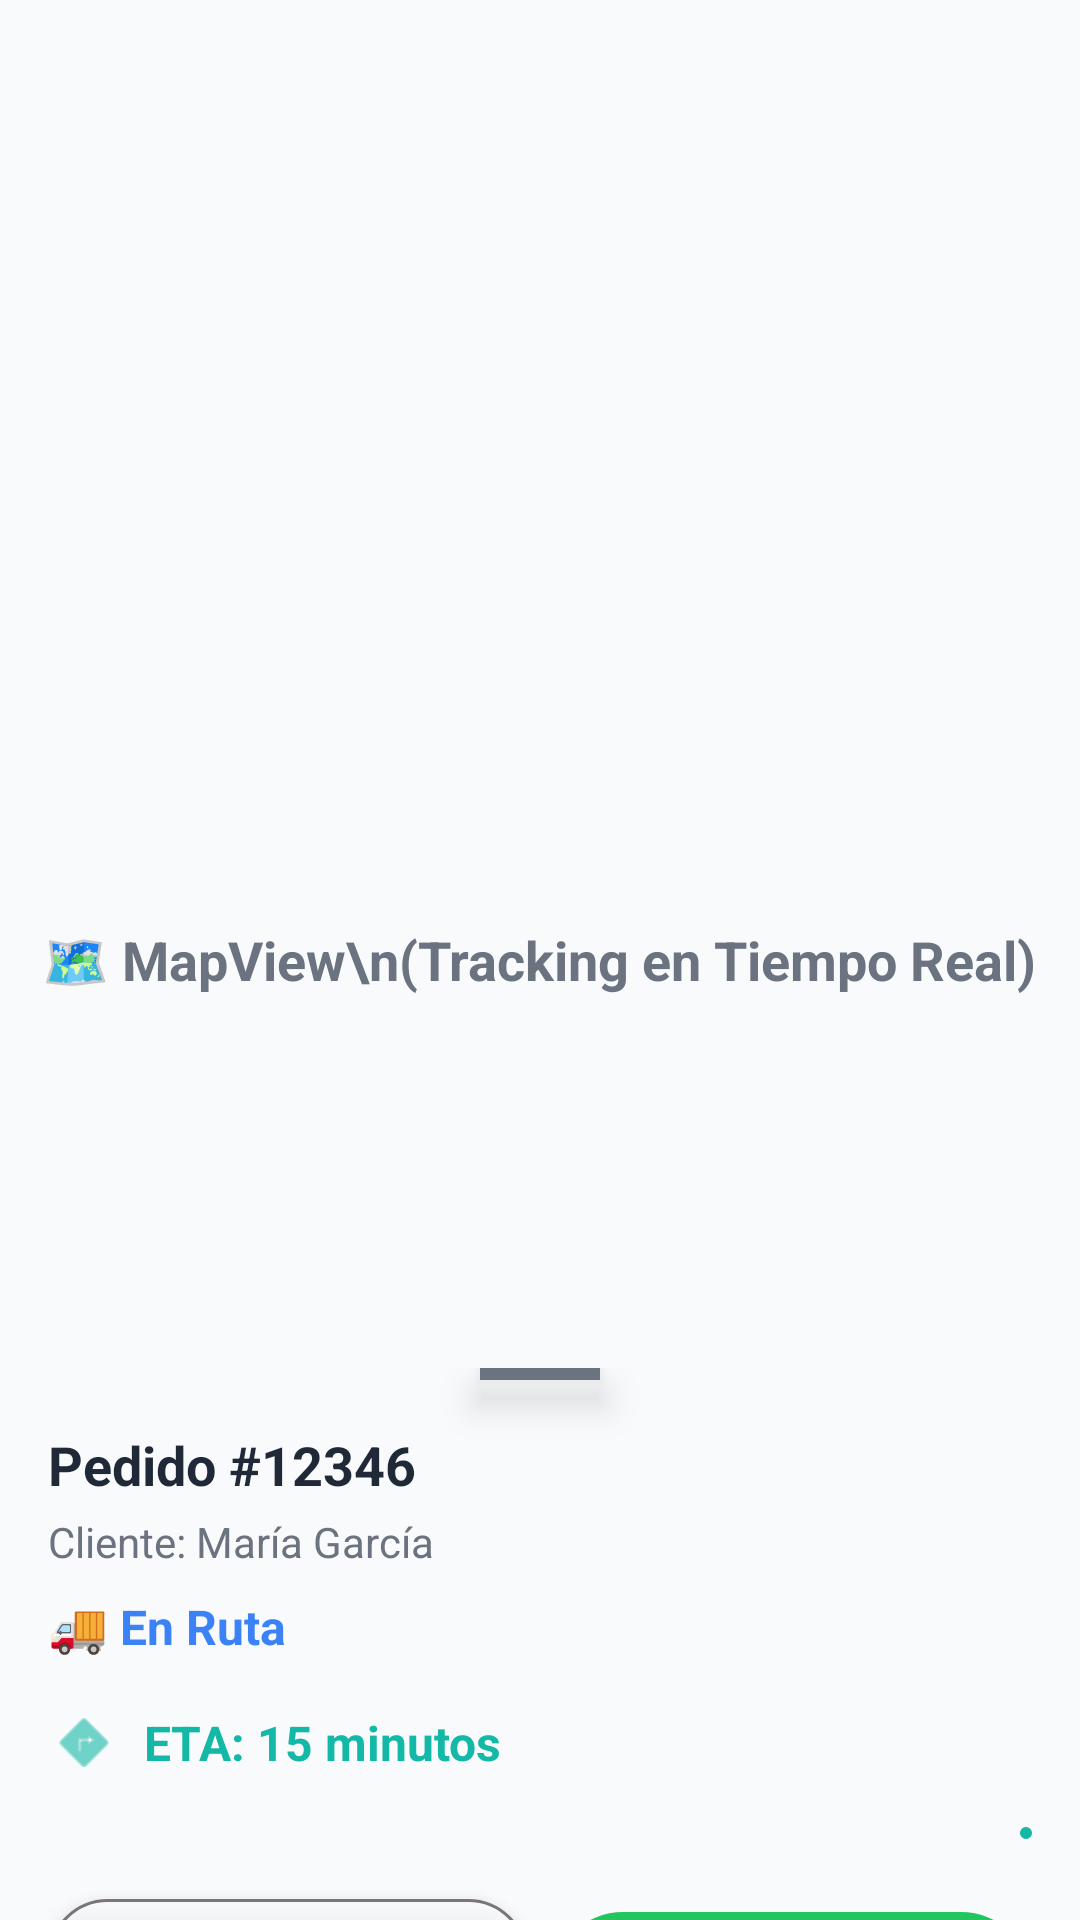

Where to tap for icons on this 1080 × 1920 app screen, as (x,y):
directions: (84,1742)
